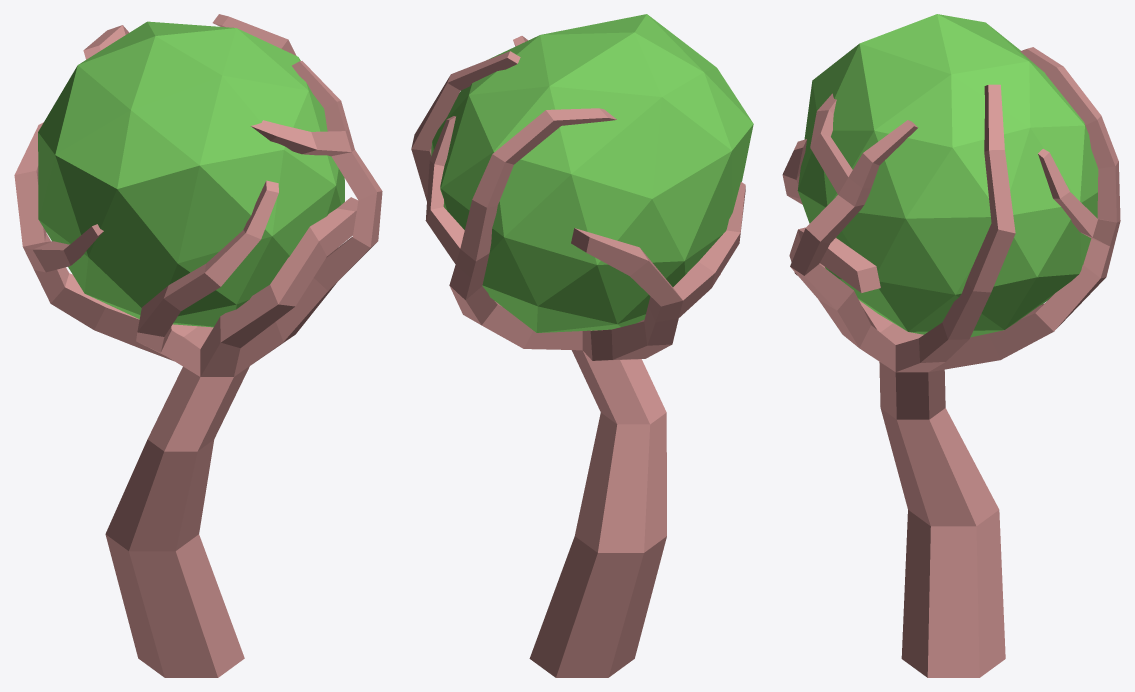
The model's file is voynich7.fbx.
3 views of the same model, side by side, from view 1: azimuth 30°, elevation 25°; view 2: azimuth 150°, elevation 25°; view 3: azimuth 270°, elevation 25° (orthographic). The views are drawn at different scales.
Parts seen in each view (by area): view 1: Fruit, Plant; view 2: Fruit, Plant; view 3: Plant, Fruit.
Boxes of the visible parts, box(x1,y1,x2,y2) form: Fruit: box(38, 21, 344, 327); Plant: box(14, 14, 382, 677); Fruit: box(431, 14, 753, 332); Plant: box(411, 36, 745, 677); Plant: box(782, 47, 1120, 677); Fruit: box(797, 14, 1098, 337).
Size of the model in its own units: 0.6369 by 1.32 by 0.6501.
